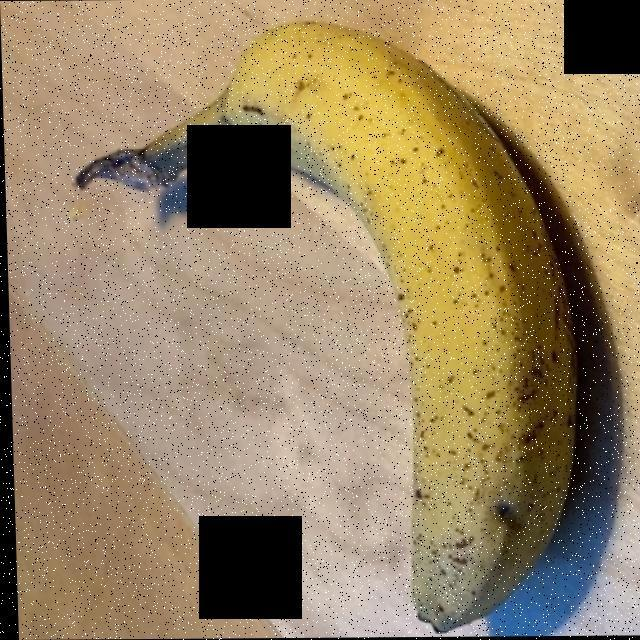banana: (113, 32, 575, 606)
